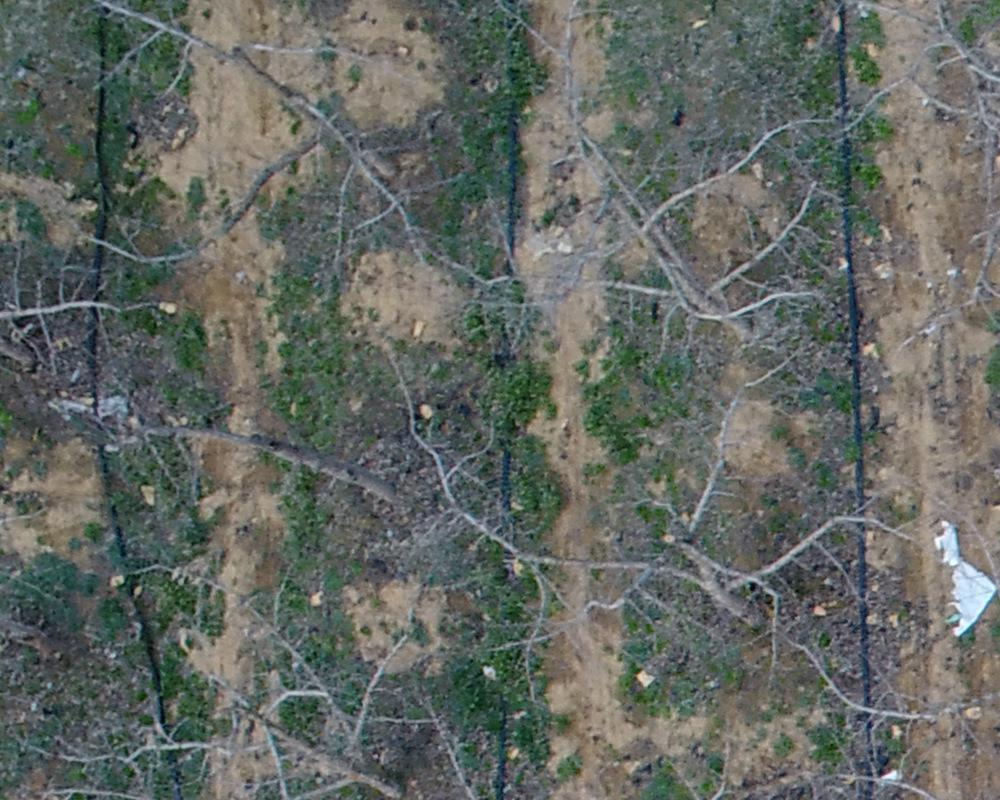apple: (474, 388, 940, 736), (490, 10, 864, 377), (72, 10, 521, 312), (21, 564, 443, 790), (107, 365, 517, 569)
